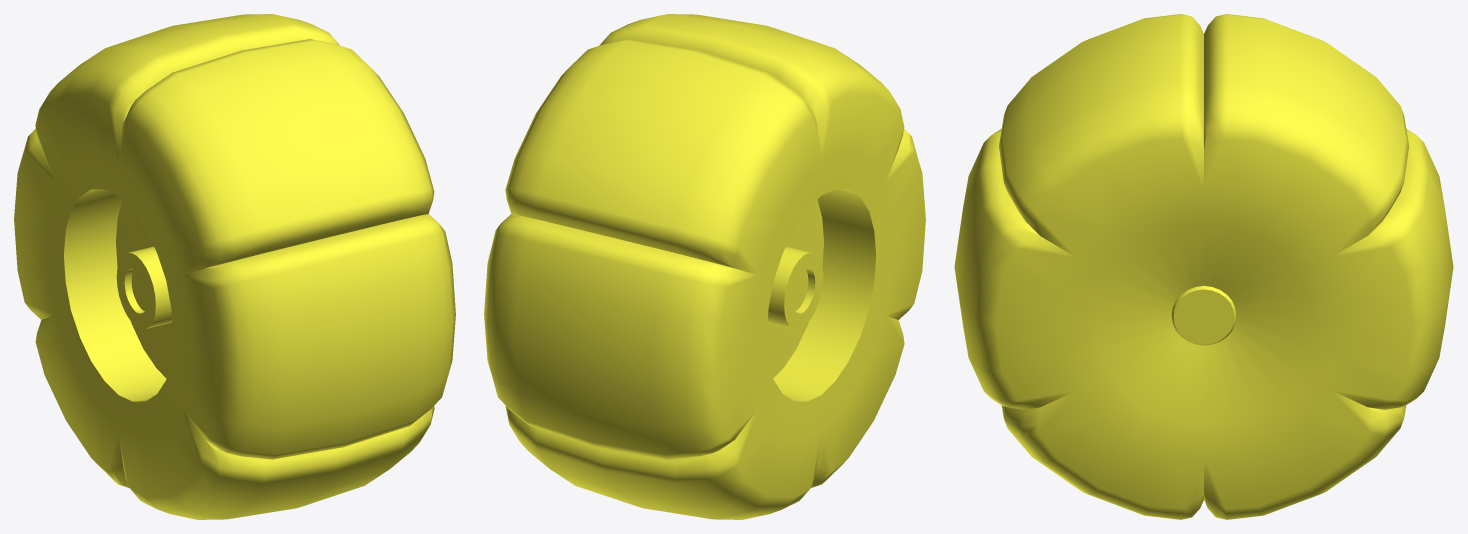
Rendered from WhaleWheel.fbx.
The picture shows the model from 3 angles, left to right: view 1: azimuth 30°, elevation 25°; view 2: azimuth 150°, elevation 25°; view 3: azimuth 270°, elevation 25°; orthographic projection.
Visible parts, largest first — view 1: wheel5; view 2: wheel5; view 3: wheel5.
Part boxes in pixels (left/top/right/bottom): wheel5: left=14, top=14, right=455, bottom=519; wheel5: left=484, top=14, right=925, bottom=519; wheel5: left=954, top=14, right=1453, bottom=519.
Bounding box in the file's own units: 2 × 3.65 × 3.7.
